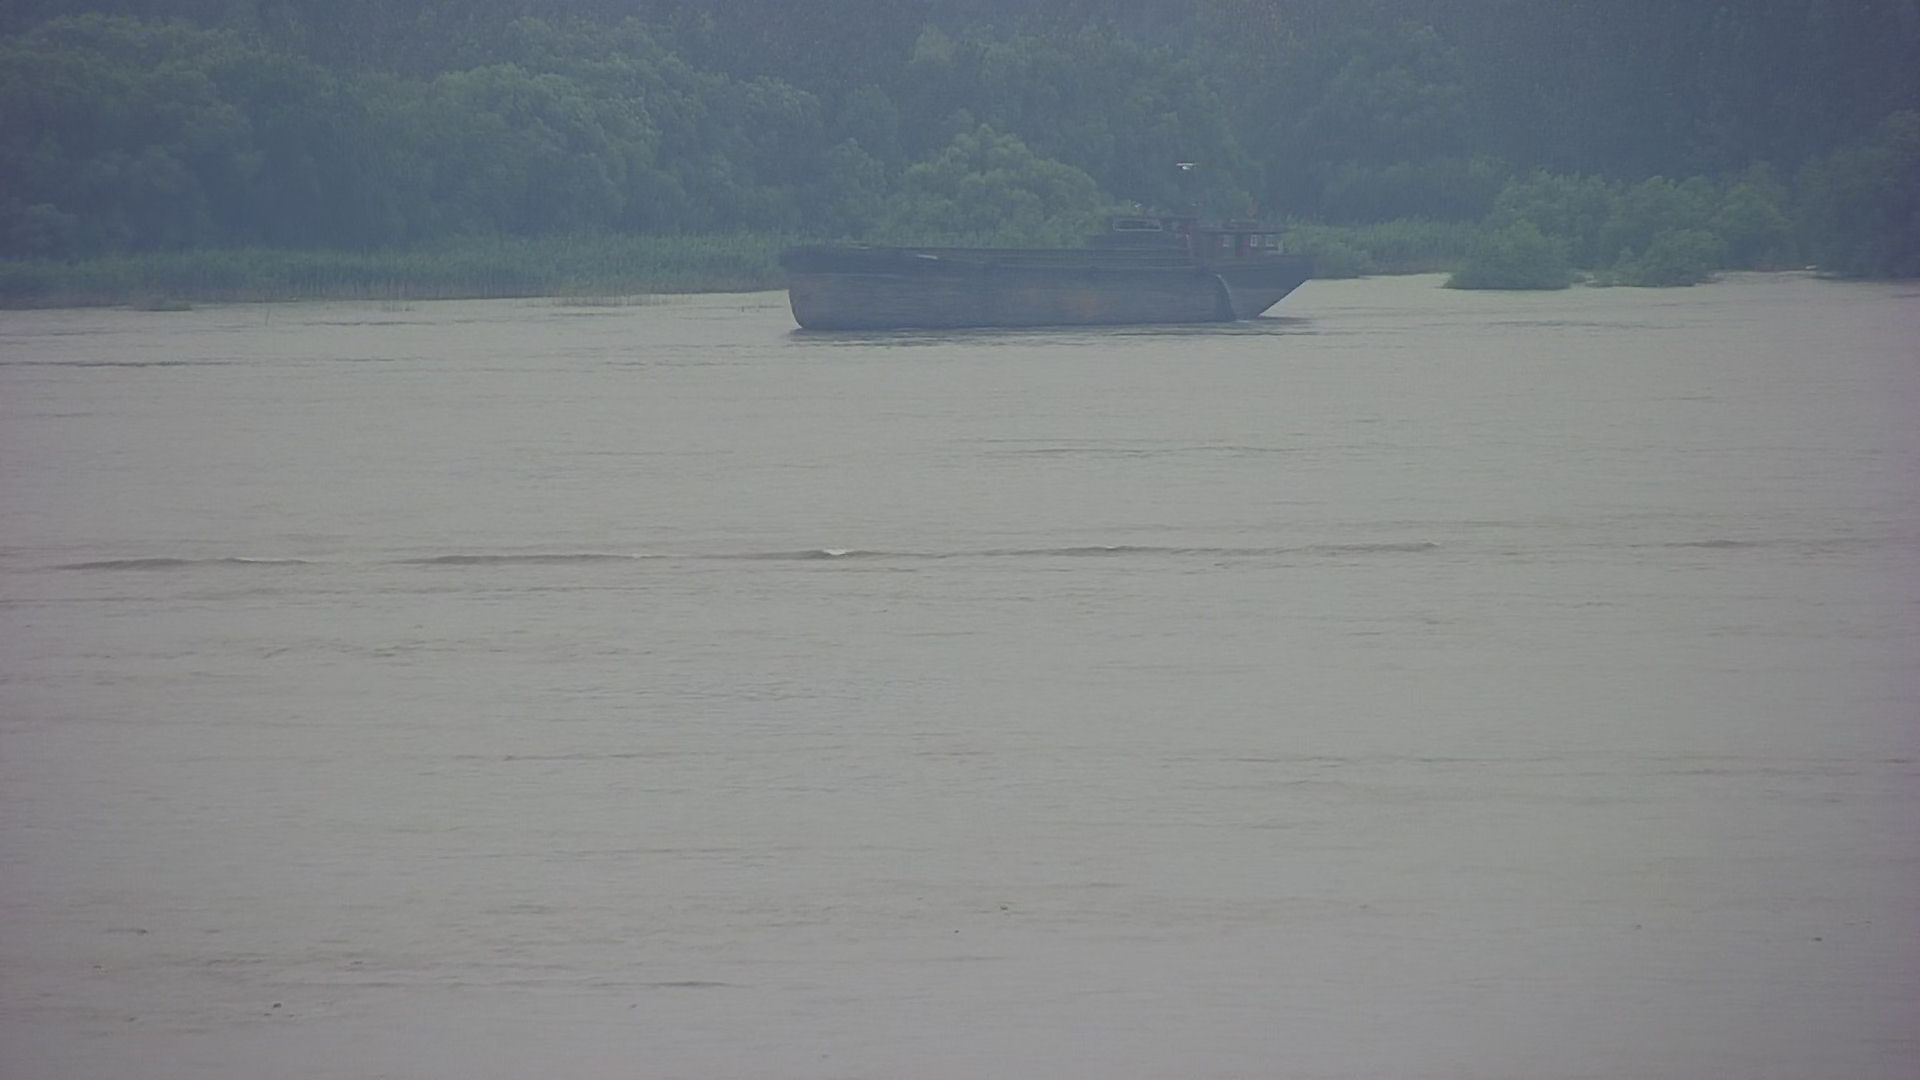ship: (760, 194, 1325, 342)
